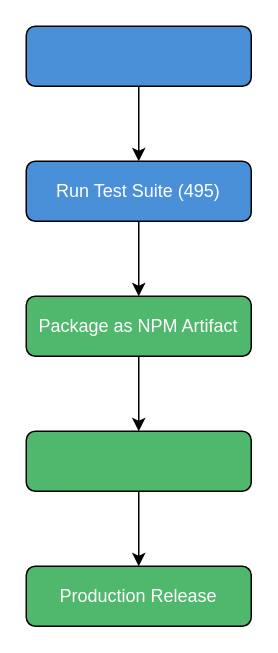
This 278x653 diagram has some shape labels left out. The shapes that lost their labels are listed below. From the top down, each one's centre as x and y in pixels, then its label:
the point at 138,55: Build 7 Parser Modules
the point at 138,460: Deploy to Registry
